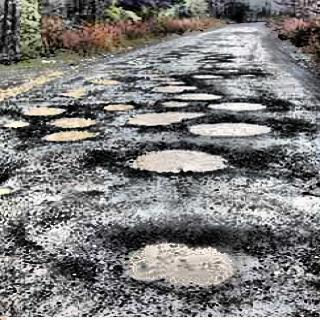pothole: (32, 68, 274, 145), (97, 230, 245, 298), (107, 144, 245, 182), (142, 44, 234, 66)
